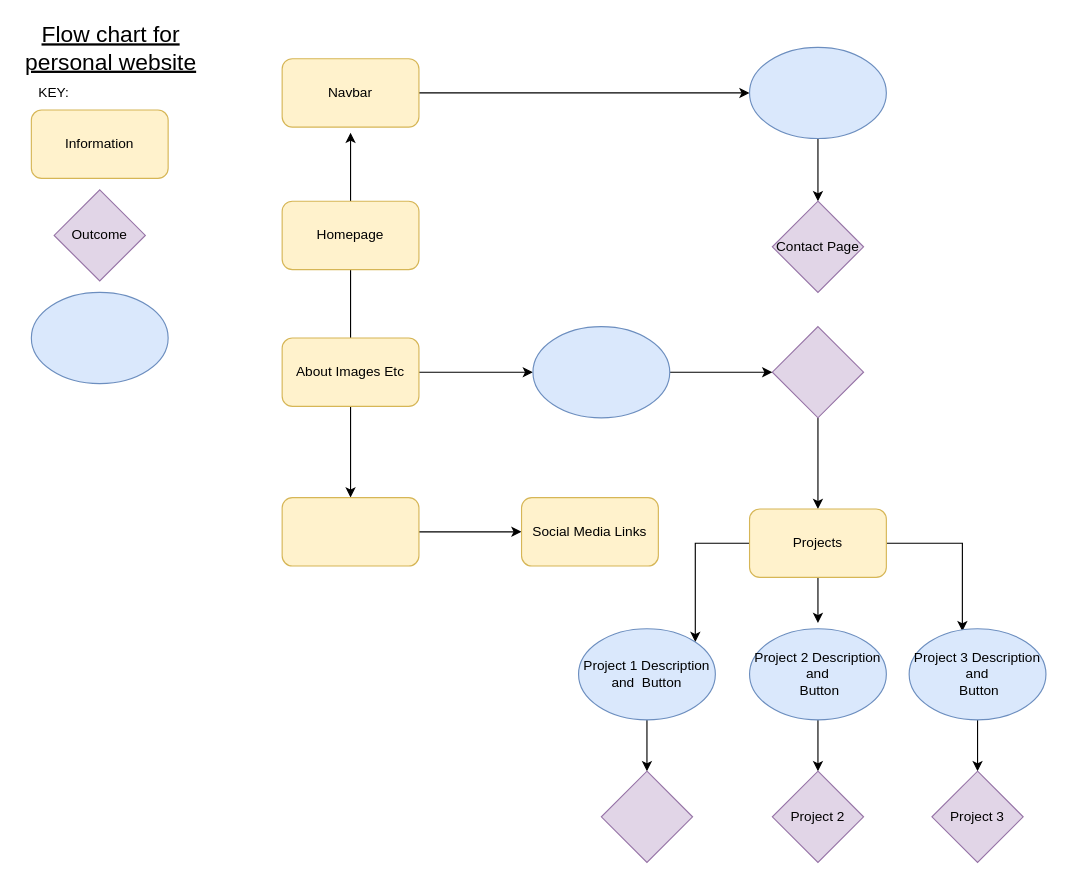
Some shapes in this 1066 by 882 pixel diagram are drawn without their labels. The centre of each missing label's shape, as x and y in pixels:
"Contact Button" belongs at [817,92].
"Decision" belongs at [99,337].
"Footer" belongs at [350,531].
"Project 1" belongs at [646,816].
"Projects Button" belongs at [601,371].
"Projects Page" belongs at [817,371].
